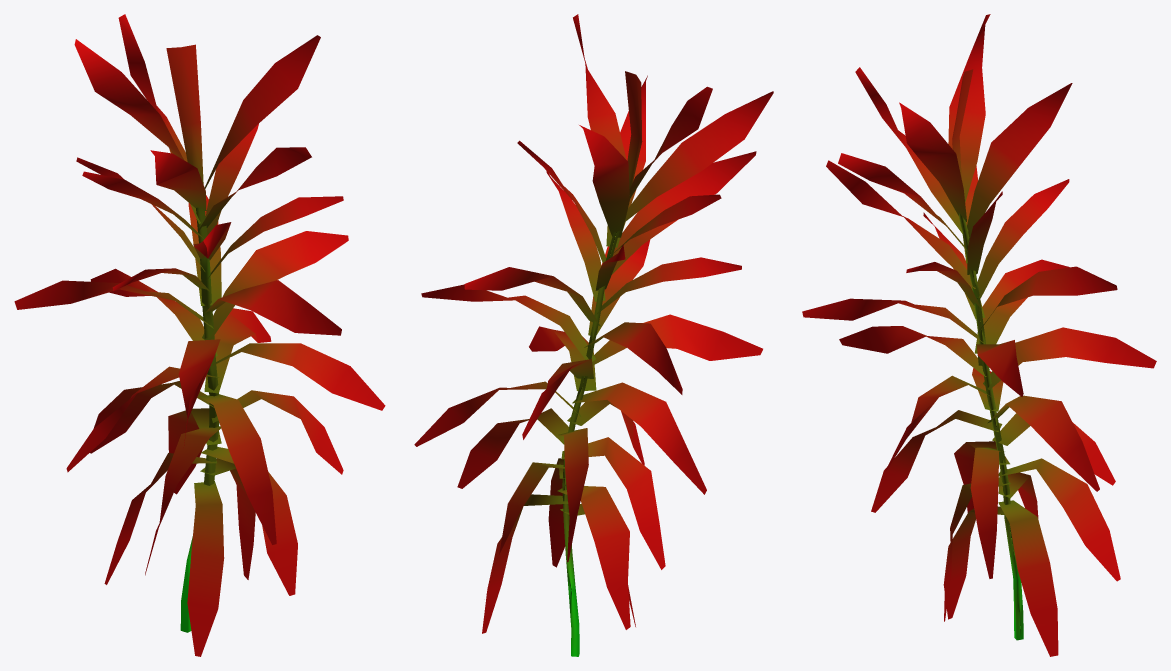
Rendered from Dragon Tree_LOD1_Var4_siumT.fbx.
The picture shows the model from 3 angles, left to right: view 1: azimuth 30°, elevation 25°; view 2: azimuth 150°, elevation 25°; view 3: azimuth 270°, elevation 25°; orthographic projection. The views are drawn at different scales.
Parts seen in each view (by area): view 1: _60a6_Var4_LOD1; view 2: _60a6_Var4_LOD1; view 3: _60a6_Var4_LOD1.
Part boxes in pixels (x1,y1,x2,y2): _60a6_Var4_LOD1: (14,14,385,656); _60a6_Var4_LOD1: (414,14,773,656); _60a6_Var4_LOD1: (802,14,1156,656).
Bounding box in the file's own units: 44.48 × 87.43 × 49.4.
